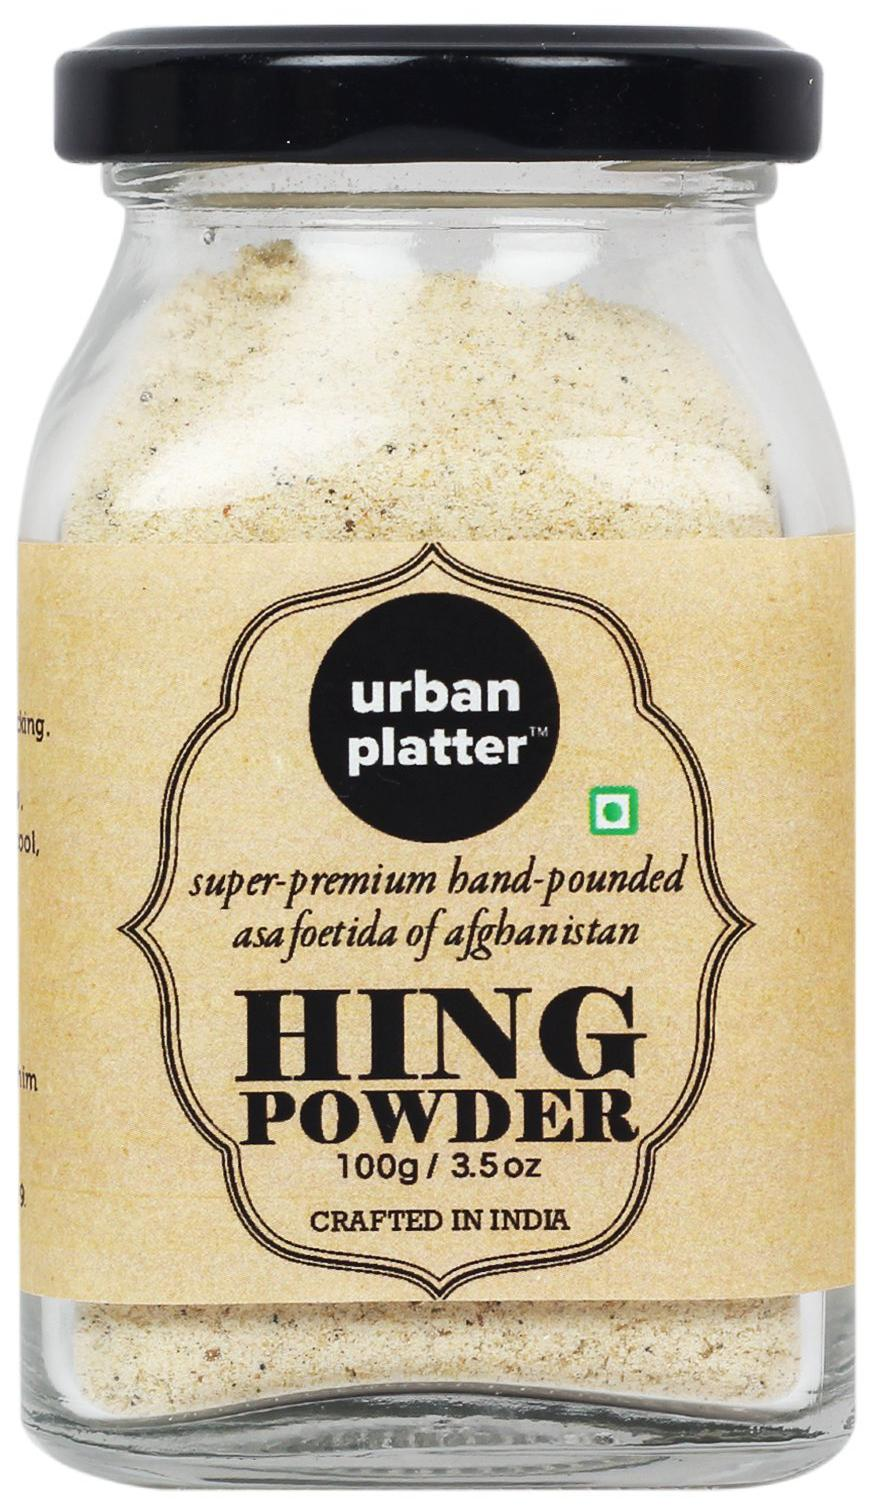JAR: (10, 15, 872, 1501)
